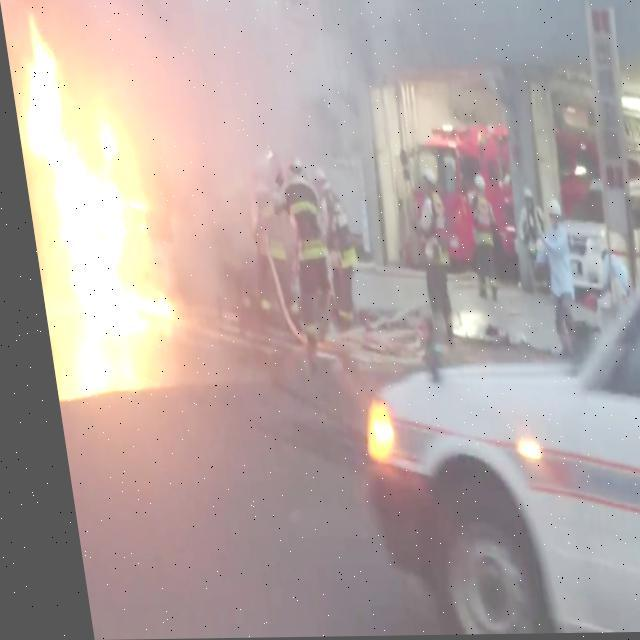Fire: (56, 8, 414, 241), (7, 19, 175, 400)
